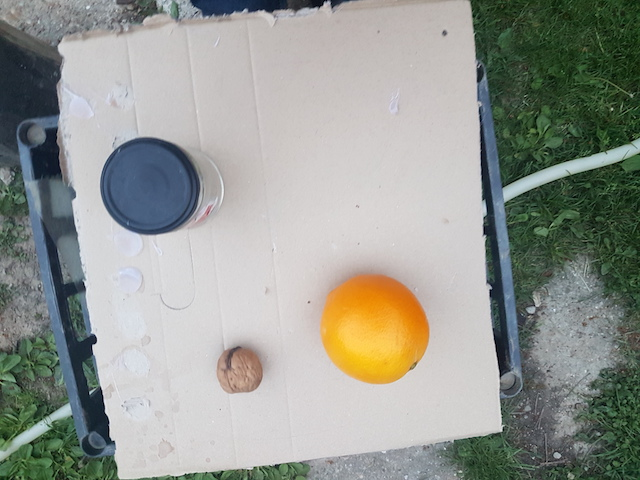nut: (217, 342, 266, 395)
orange: (320, 275, 430, 386)
recipient: (99, 135, 197, 239)
